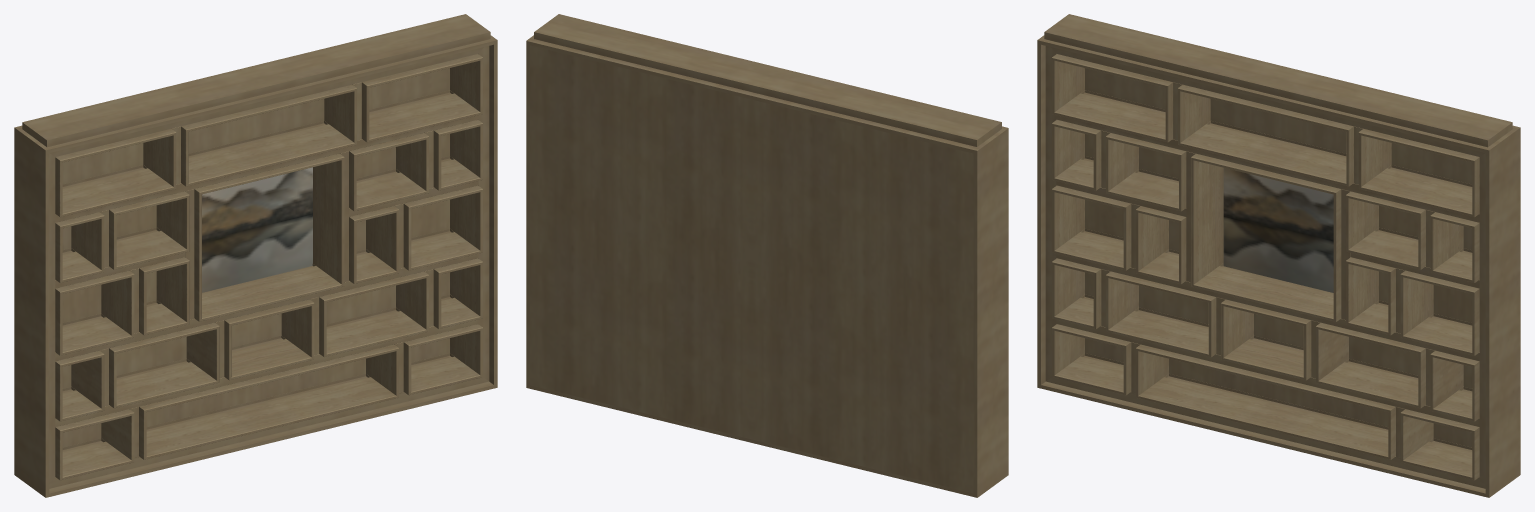
Rendered from Cabinet6.obj.
3 views of the same model, side by side, from view 1: azimuth 30°, elevation 25°; view 2: azimuth 150°, elevation 25°; view 3: azimuth 330°, elevation 25° (orthographic).
Visible parts, largest first — view 1: solid_001, solid_002; view 2: solid_001; view 3: solid_001, solid_002.
Boxes of the visible parts, box(x1,y1,x2,y2) form: solid_001: box(14, 14, 497, 497); solid_002: box(202, 167, 312, 292); solid_001: box(526, 14, 1008, 497); solid_001: box(1037, 14, 1520, 497); solid_002: box(1223, 168, 1333, 292).
Size of the model in its own units: 1.6 by 1.2 by 0.1927.
Materials: 1 (1 with a texture image).
